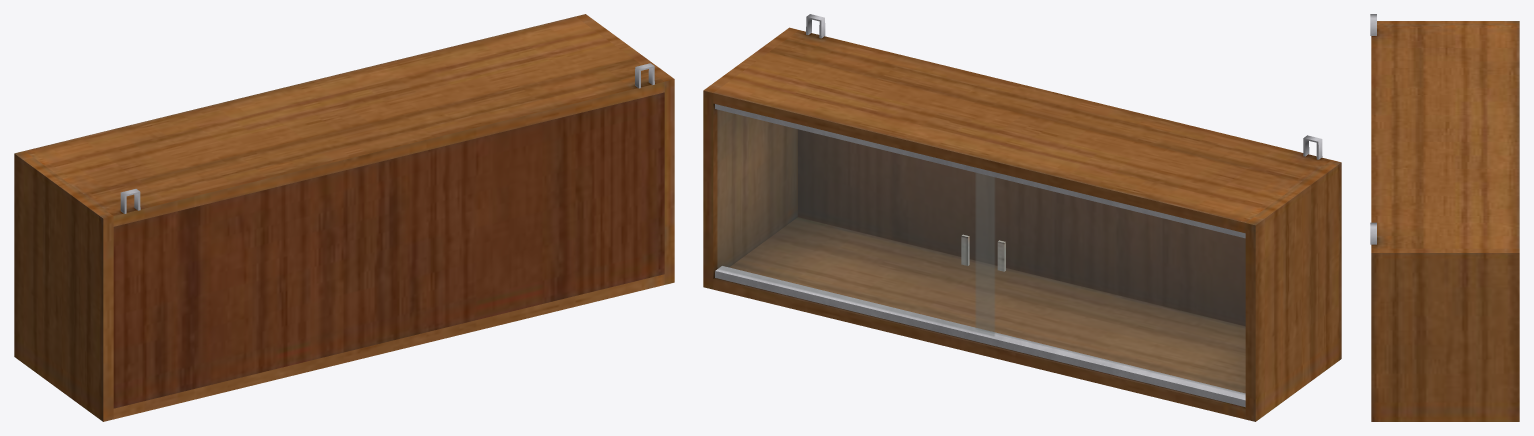
File: shelf_glass_light_lod1_web.glb
3 views of the same model, side by side, from view 1: azimuth 30°, elevation 25°; view 2: azimuth 150°, elevation 25°; view 3: azimuth 270°, elevation 25° (orthographic). The views are drawn at different scales.
Parts seen in each view (by area): view 1: ShelfGlassLight_Body, Chrome_ShelfGlassLight; view 2: ShelfGlassLight_Body, Glass_Slide_1_L, Glass_Slide_1_R, Chrome_ShelfGlassLight; view 3: ShelfGlassLight_Body, Chrome_ShelfGlassLight.
Part boxes in pixels (left/top/right/bottom): ShelfGlassLight_Body: left=14, top=14, right=674, bottom=421; Chrome_ShelfGlassLight: left=120, top=63, right=654, bottom=213; ShelfGlassLight_Body: left=703, top=27, right=1341, bottom=421; Glass_Slide_1_L: left=717, top=110, right=994, bottom=336; Glass_Slide_1_R: left=976, top=173, right=1245, bottom=394; Chrome_ShelfGlassLight: left=715, top=14, right=1322, bottom=407; ShelfGlassLight_Body: left=1371, top=21, right=1519, bottom=421; Chrome_ShelfGlassLight: left=1370, top=14, right=1376, bottom=244.
Bounding box in the file's own units: 1 × 0.3712 × 0.272.
Materials: 3 (2 with a texture image).
